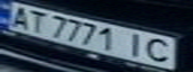1: (93, 25, 118, 52)
7: (45, 12, 69, 39), (78, 20, 100, 47), (63, 17, 84, 43)
A: (3, 3, 33, 29)
C: (139, 35, 181, 64)
I: (121, 30, 151, 59)
T: (24, 7, 51, 34)
